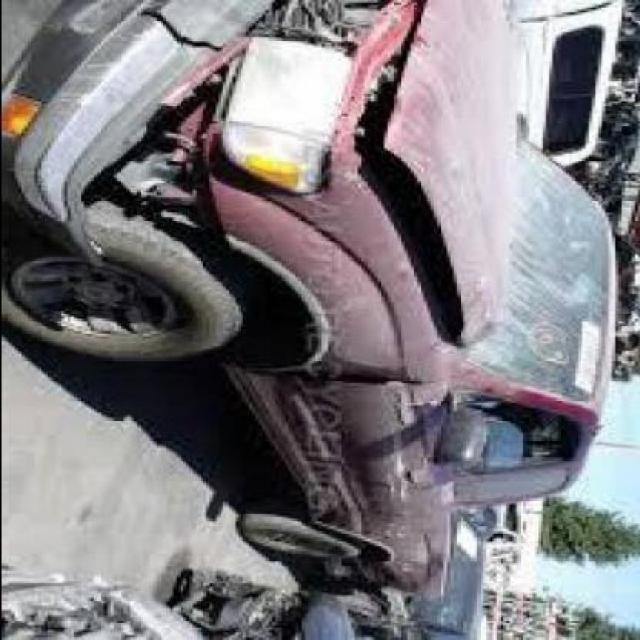damage: (0, 0, 473, 361)
